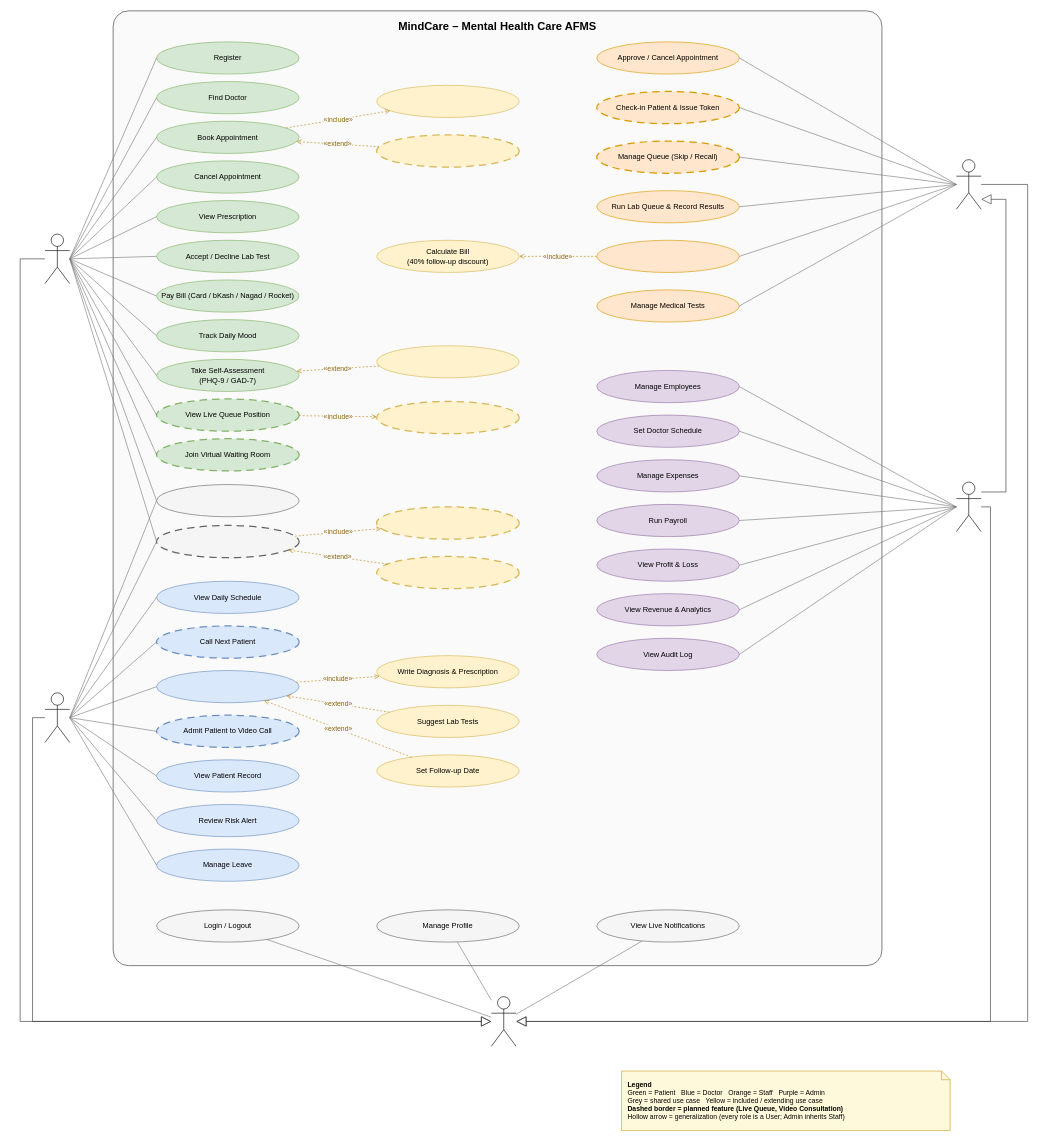
Some shapes in this 1048 by 1141 pixel diagram are drawn without their labels. The centre of each missing label's shape, as x and y in pixels:
"Admin" belongs at point 968,506.
"Chat (Doctor ↔ Patient)" belongs at point 227,500.
"Choose Visit Mode (In-person / Video)" belongs at point 448,150.
"Complete Visit" belongs at point 227,686.
"Doctor" belongs at point 57,717.
"Estimate Wait Time" belongs at point 448,417.
"Generate Invoice" belongs at point 667,256.
"Patient" belongs at point 57,258.
"Raise Risk Alert" belongs at point 447,361.
"Select 15-min Time Slot" belongs at point 447,101.
"Share Screen" belongs at point 448,572.
"Staff" belongs at point 968,184.
"User (any role)" belongs at point 503,1021.
"Verify Call Access (own appointment, time window)" belongs at point 448,522.
"Video Consultation (Doctor ↔ Patient)" belongs at point 227,541.
